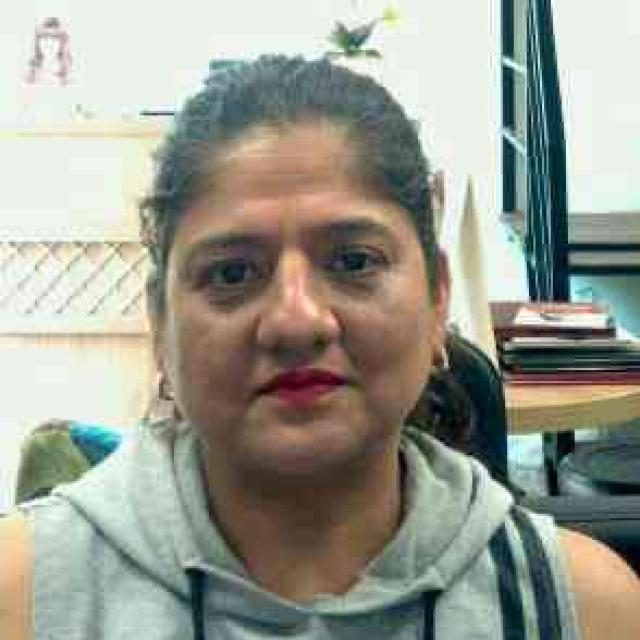puffy_eyes: (204, 283, 264, 312), (329, 275, 383, 299)
